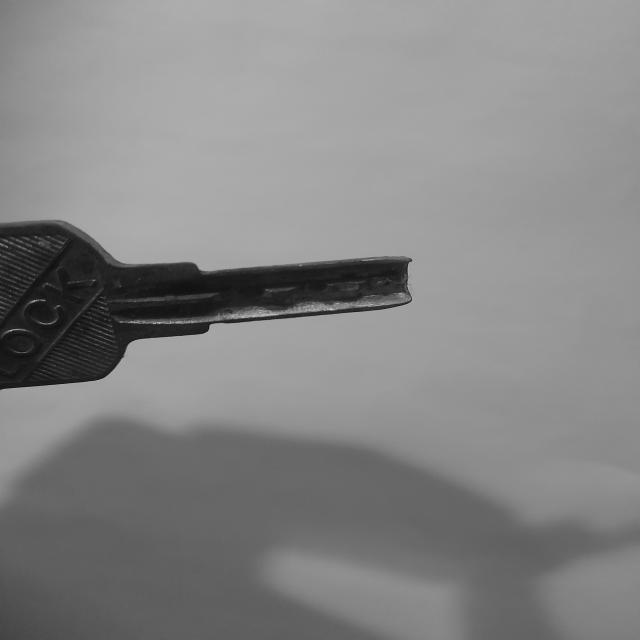key: (0, 221, 411, 389)
